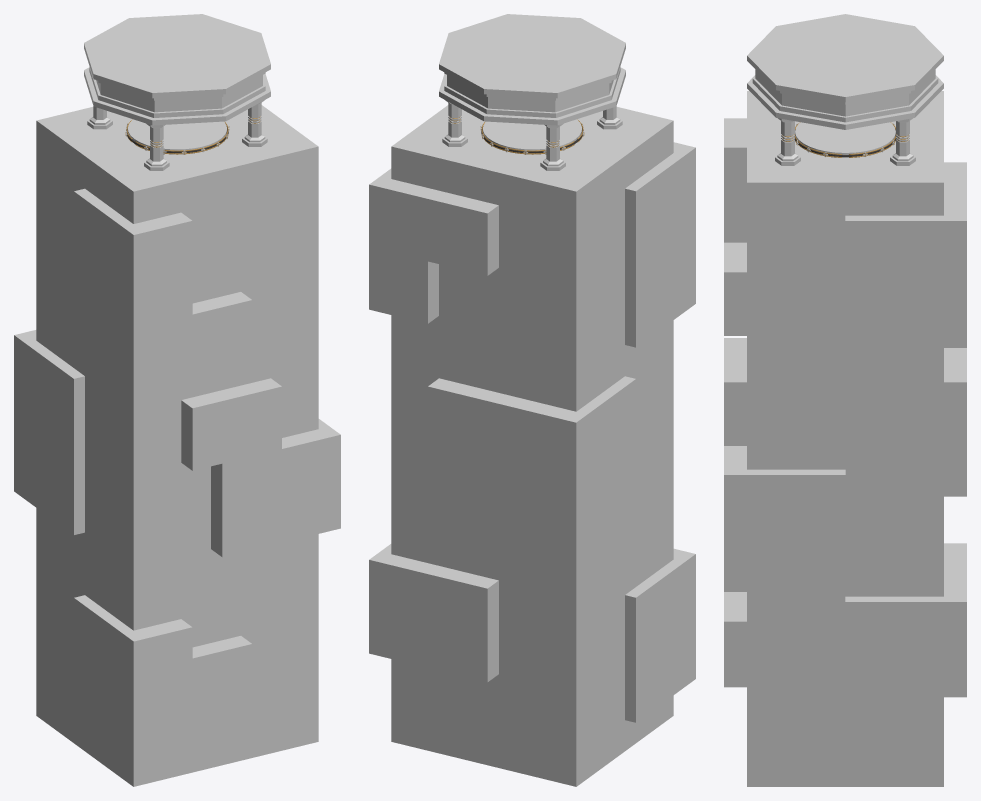
Rendered from BossBuilding.fbx.
3 renders of one model, left to right at view 1: azimuth 30°, elevation 25°; view 2: azimuth 150°, elevation 25°; view 3: azimuth 270°, elevation 25°, orthographic.
Visible parts, largest first — view 1: Boss_Building, BB_Arena, BB_Ground, BB_Platform; view 2: Boss_Building, BB_Arena, BB_Ground, BB_Platform; view 3: Boss_Building, BB_Arena, BB_Ground, BB_Platform.
Part boxes in pixels (<box>): Boss_Building: <box>14,148,340,786</box>; BB_Arena: <box>84,14,270,170</box>; BB_Ground: <box>36,105,318,218</box>; BB_Platform: <box>125,119,229,154</box>; Boss_Building: <box>369,142,695,786</box>; BB_Arena: <box>439,14,625,170</box>; BB_Ground: <box>391,105,673,218</box>; BB_Platform: <box>480,119,584,154</box>; Boss_Building: <box>724,118,966,786</box>; BB_Arena: <box>747,14,943,165</box>; BB_Ground: <box>747,91,943,210</box>; BB_Platform: <box>794,122,896,157</box>.
Bounding box in the file's own units: 97.05 × 97.1 × 302.
